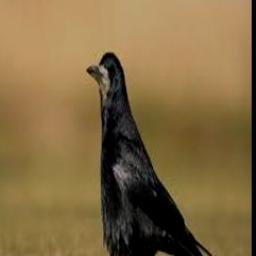Crow: (86, 51, 222, 256)
